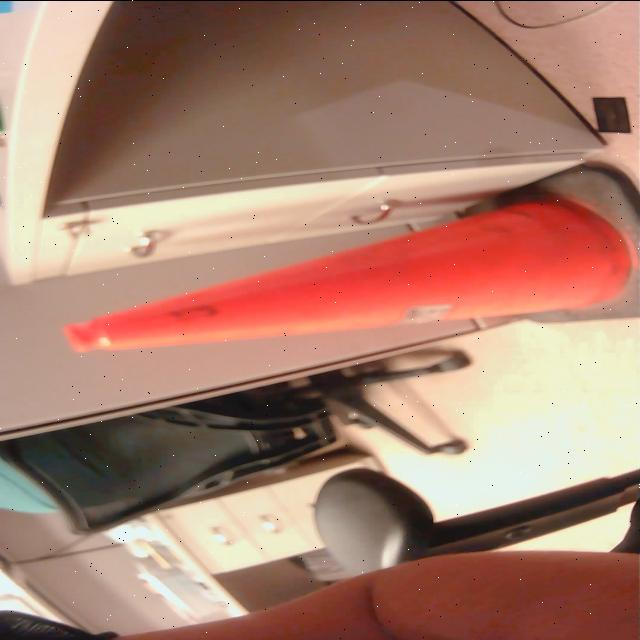traffic cone: (58, 159, 640, 357)
